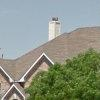Chimney: (43, 9, 62, 43)
